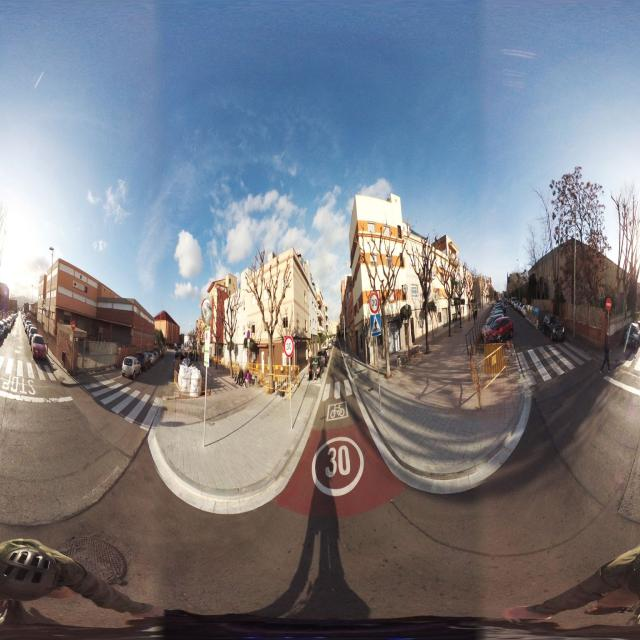forb_stopping: (247, 331, 250, 340)
